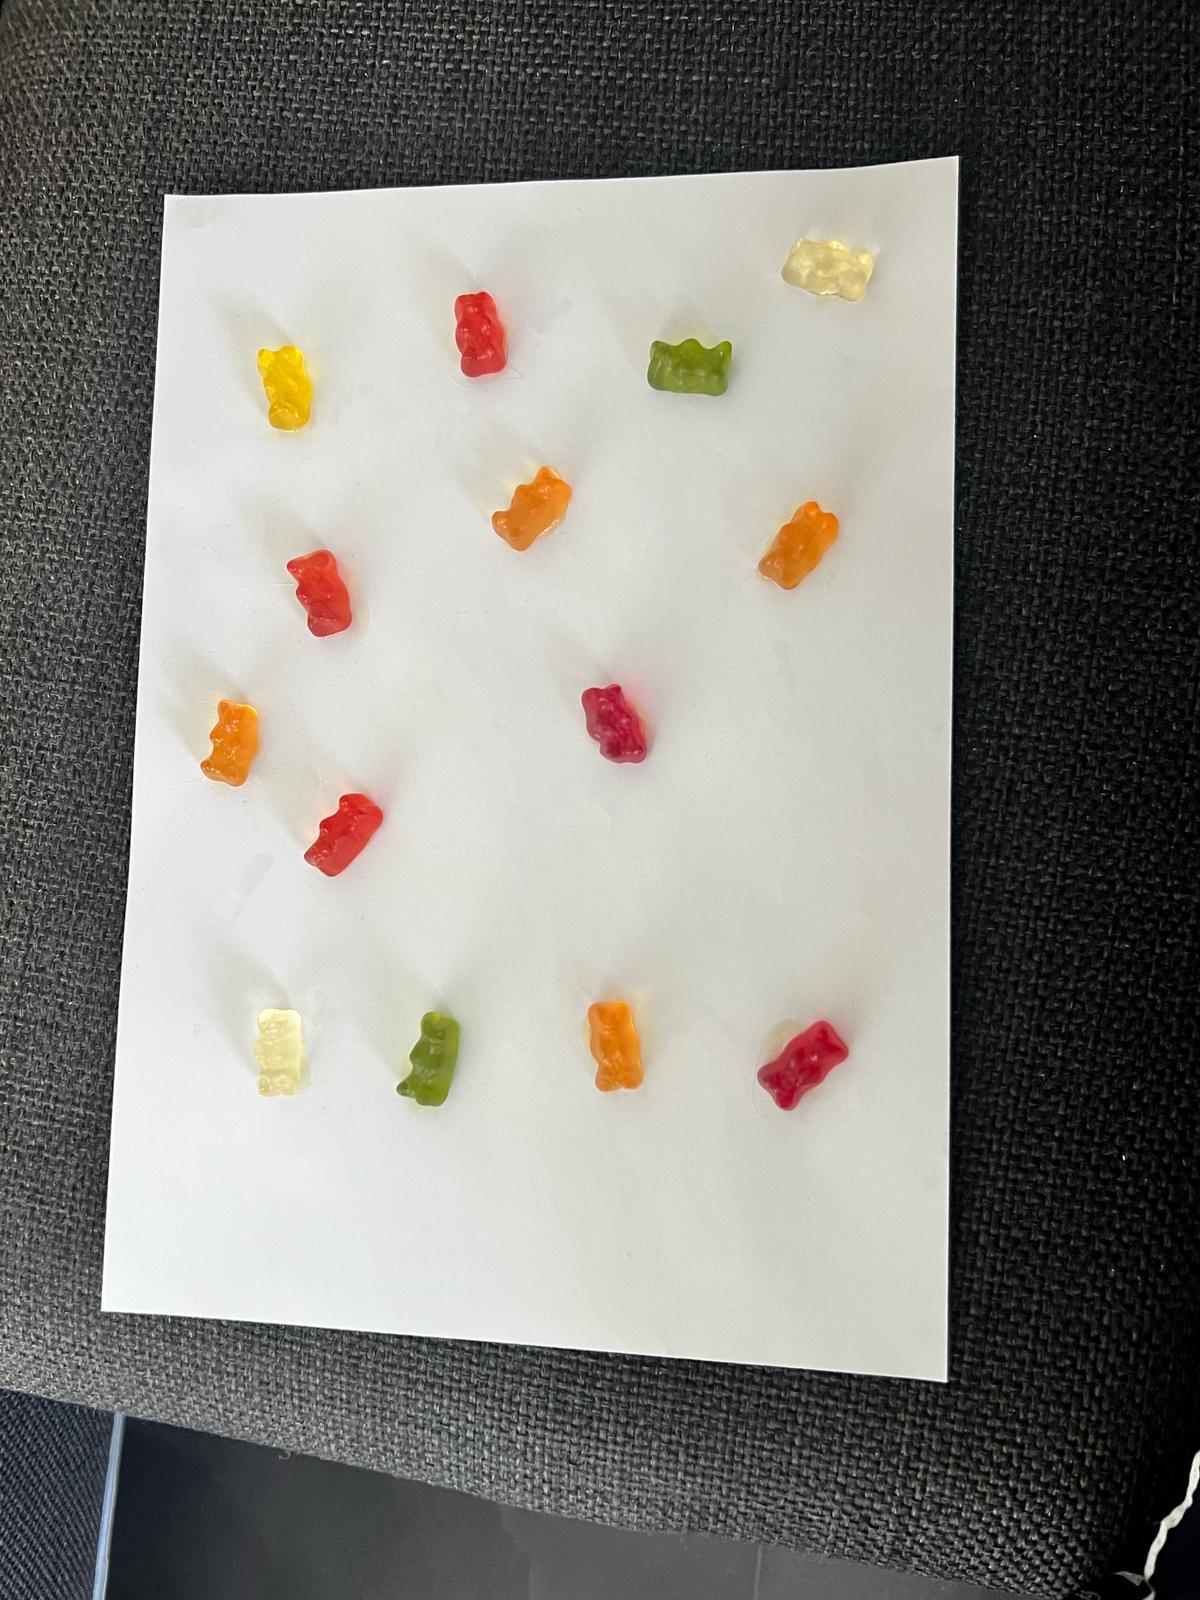gummybear: (753, 1007, 855, 1123), (178, 683, 274, 797), (750, 493, 848, 598), (482, 459, 584, 559), (766, 226, 887, 306), (387, 1000, 473, 1114), (281, 540, 367, 643), (575, 678, 659, 774), (301, 792, 389, 881), (253, 335, 321, 443), (579, 995, 649, 1099), (250, 1002, 315, 1107), (449, 286, 516, 386), (640, 334, 739, 401)
